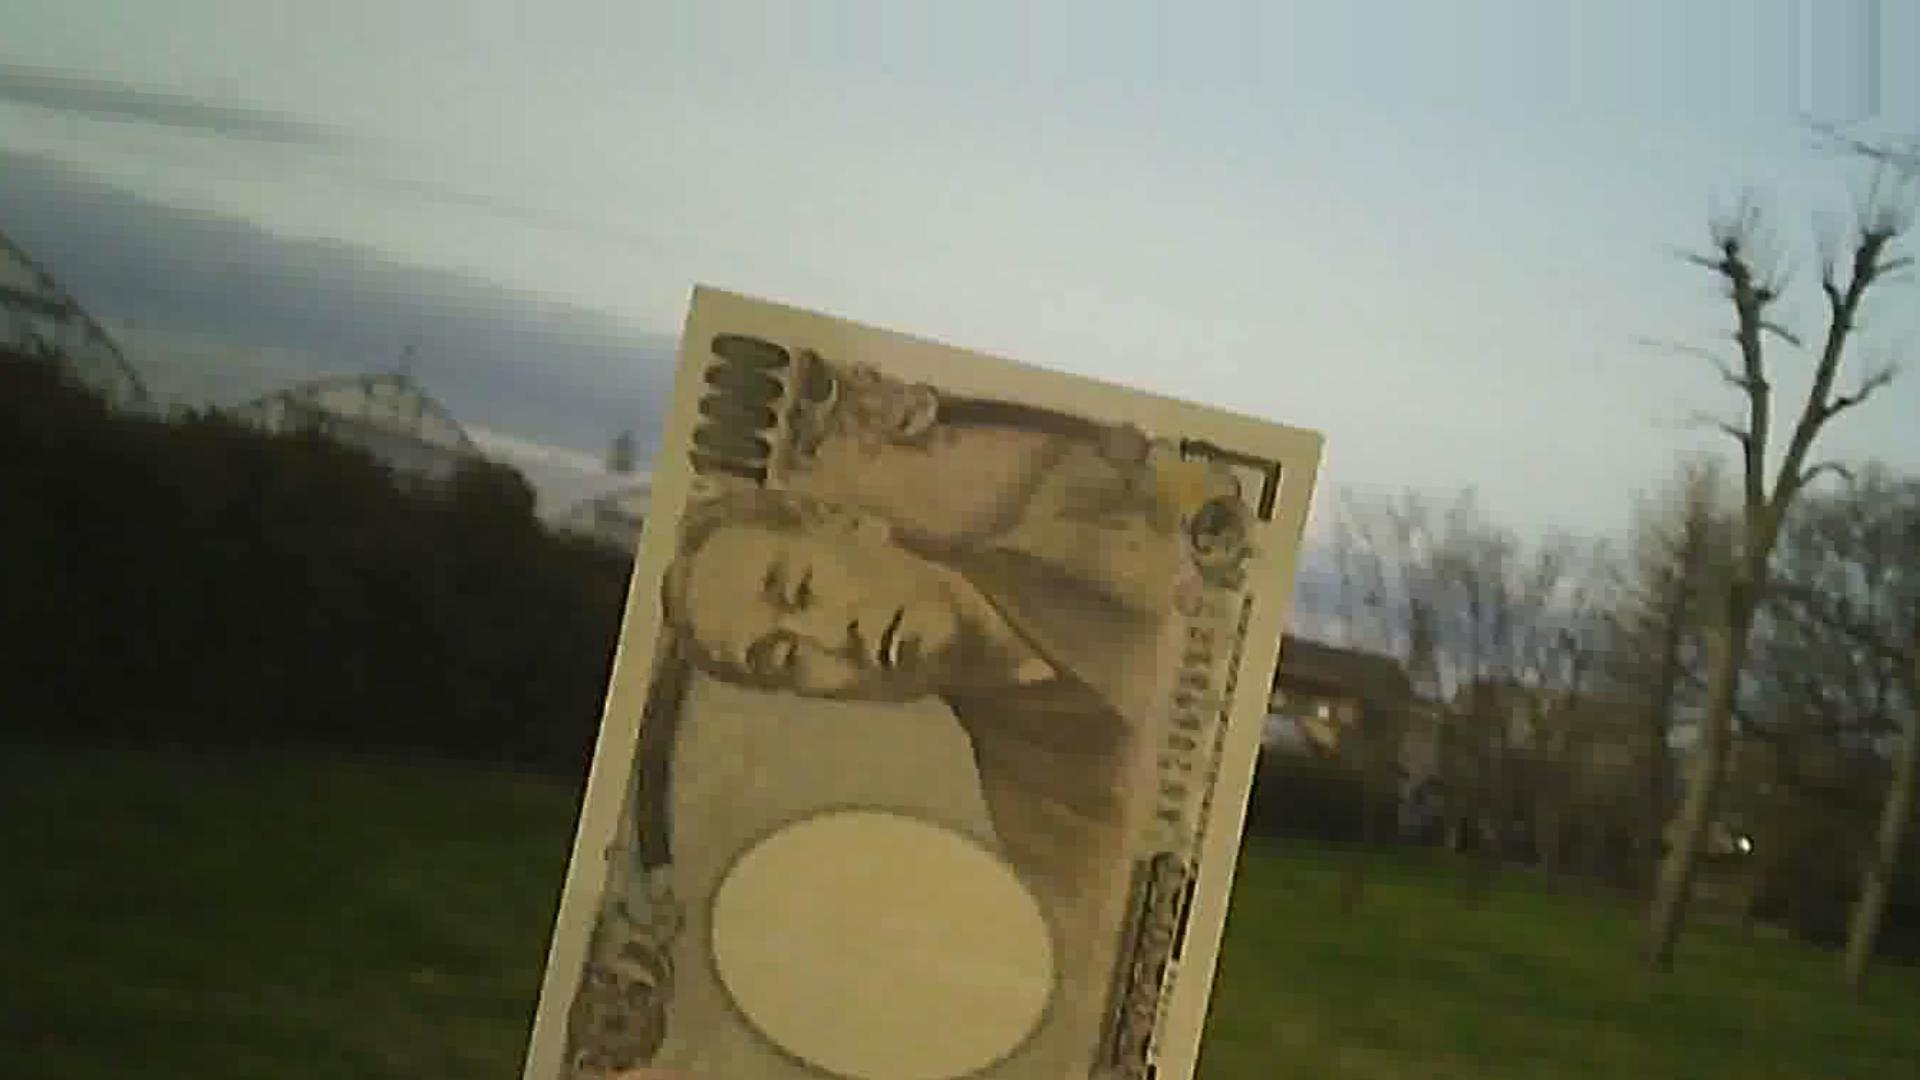10,000 Yen: (493, 272, 1296, 1079)
